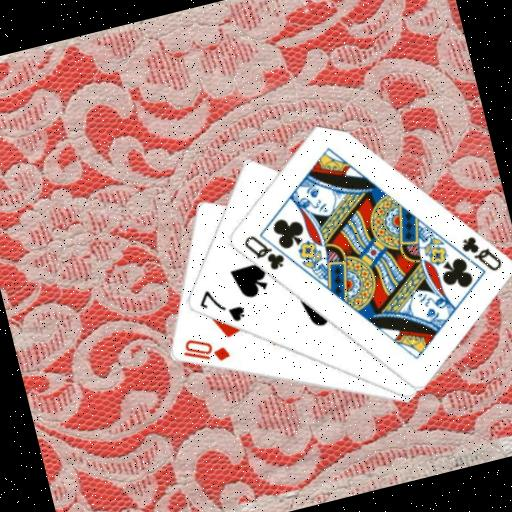10D: (176, 327, 233, 372)
7S: (193, 280, 249, 332)
QC: (238, 225, 288, 278), (455, 228, 505, 280)
